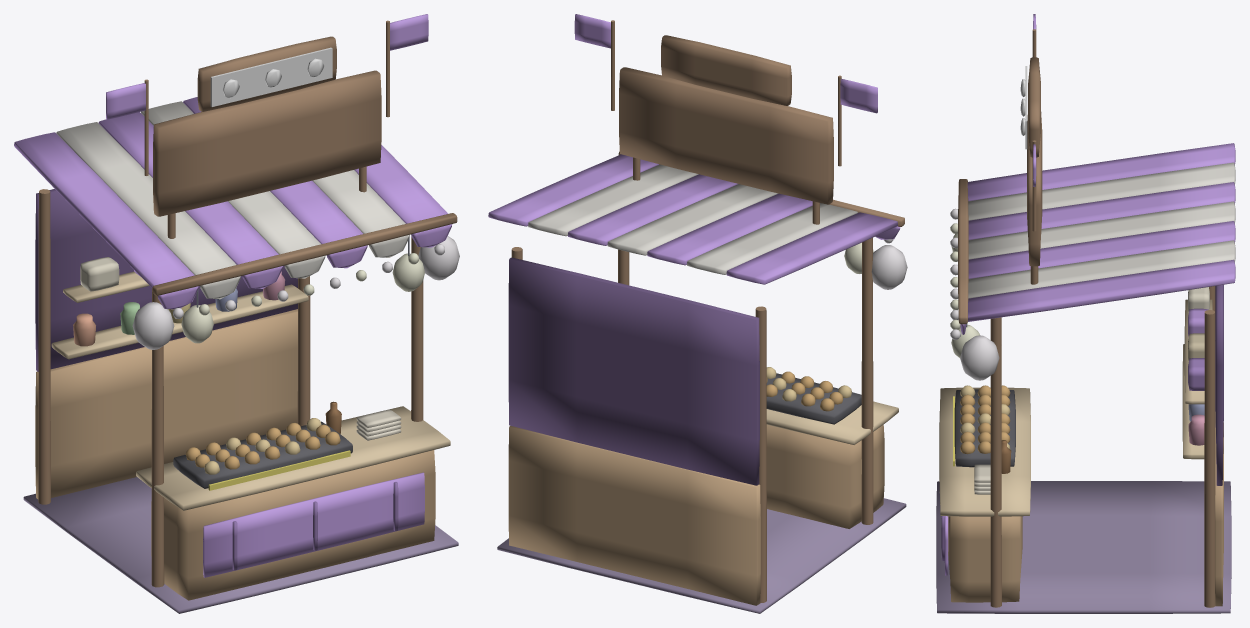
Rendered from stall_takoyaki.glb.
3 renders of one model, left to right at view 1: azimuth 30°, elevation 25°; view 2: azimuth 150°, elevation 25°; view 3: azimuth 270°, elevation 25°, orthographic. The views are drawn at different scales.
Parts seen in each view (by area): view 1: body, level3, level2; view 2: body, level3, level2; view 3: body, level2, level3.
Boxes of the visible parts, x1=… form: body: x1=14, y1=70, x2=458, y2=613; level3: x1=106, y1=14, x2=428, y2=175; level2: x1=63, y1=236, x2=459, y2=349; body: x1=488, y1=67, x2=906, y2=613; level3: x1=574, y1=14, x2=877, y2=166; level2: x1=871, y1=239, x2=907, y2=289; body: x1=936, y1=112, x2=1235, y2=613; level2: x1=950, y1=208, x2=1212, y2=404; level3: x1=1020, y1=14, x2=1040, y2=231.
Size of the model in its own units: 3.2 by 4.68 by 2.73.
